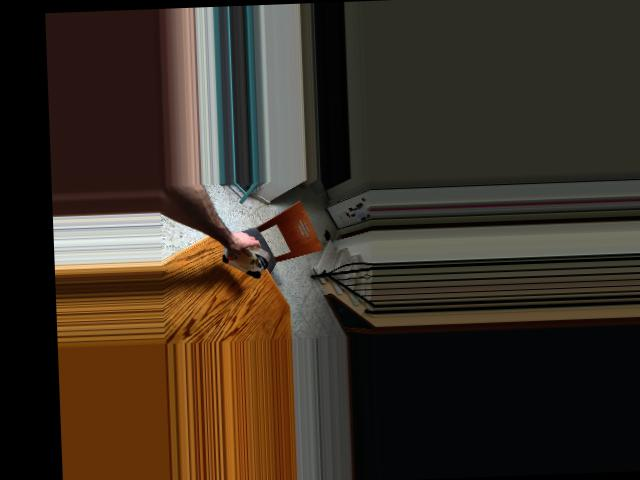cheese: (217, 231, 270, 279)
